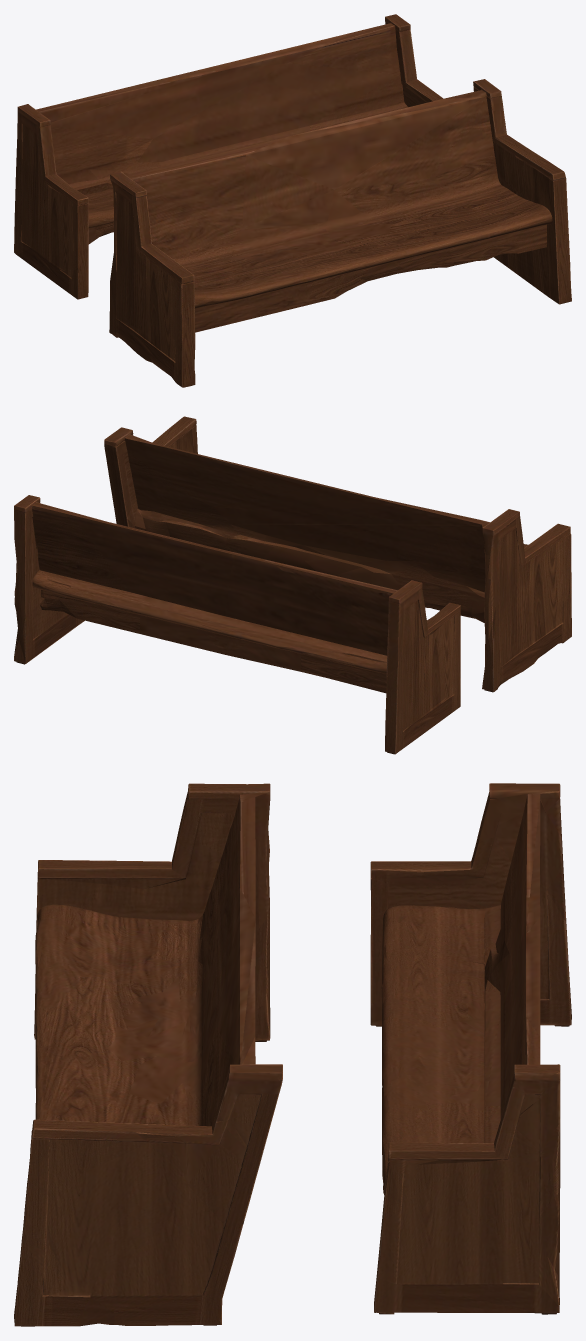
File: skameyka.glb
3 renders of one model, top to bottom at view 1: azimuth 30°, elevation 25°; view 2: azimuth 150°, elevation 25°; view 3: azimuth 270°, elevation 25°, orthographic. The views are drawn at different scales.
Visible parts, largest first — view 1: output_unwrapped; view 2: output_unwrapped; view 3: output_unwrapped.
Boxes of the visible parts, bbox=[...] form: output_unwrapped: bbox=[14, 14, 571, 387]; output_unwrapped: bbox=[14, 416, 571, 754]; output_unwrapped: bbox=[14, 783, 571, 1326].
Bounding box in the file's own units: 2.22 × 0.9001 × 1.78.
Materials: 1 (1 with a texture image).
